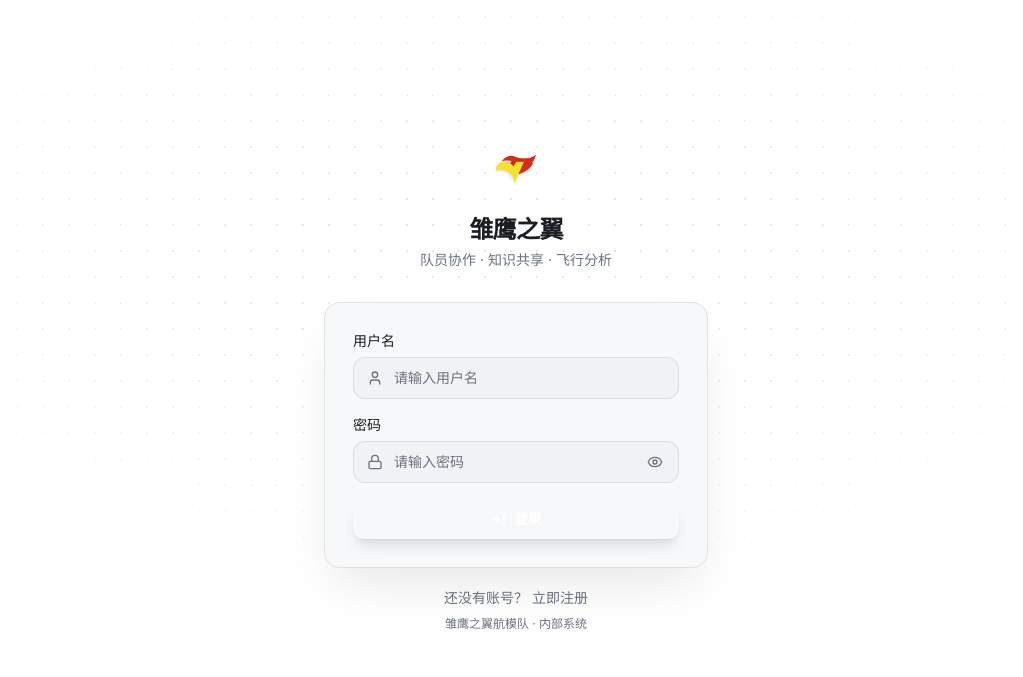
Test case: 登录页 › 登录失败展示后端错误信息
Type "admin" into the field with placeholder "请输入用户名" at (516, 378), box [353,357,679,399]
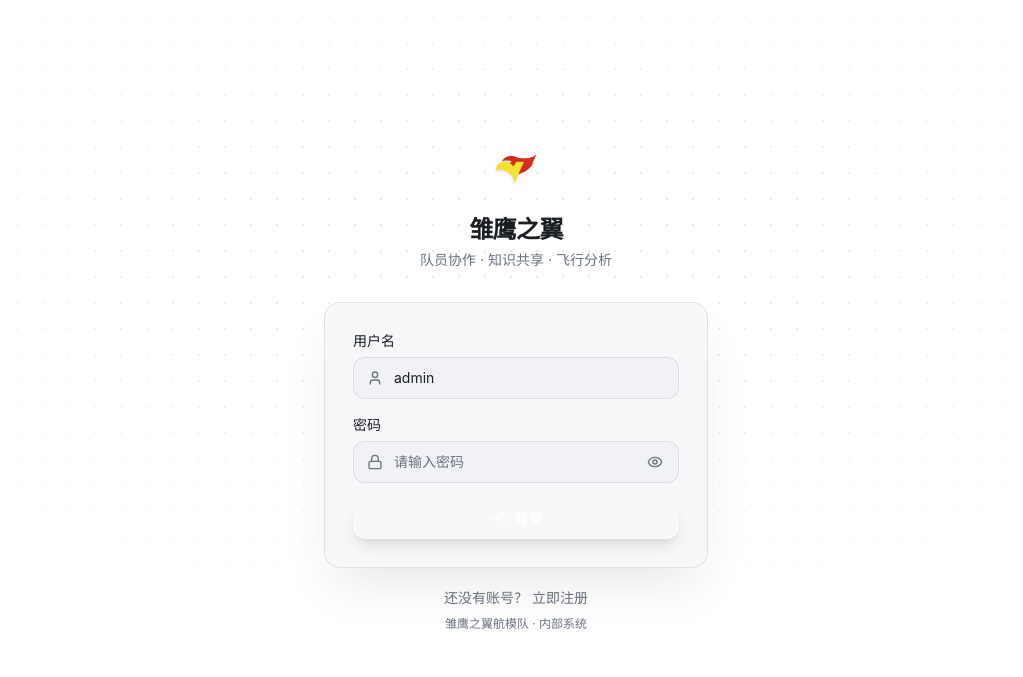
Type "bad" into the password field with placeholder "请输入密码" at (516, 462), box [353,441,679,483]
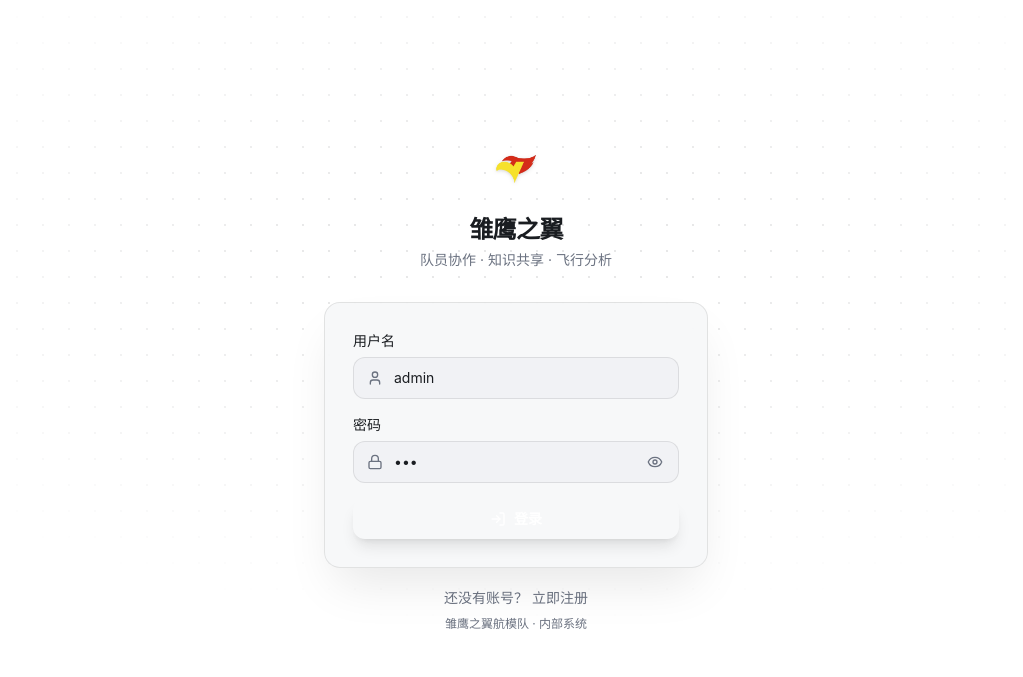
Click the button "登录" at (516, 519), box [353,499,679,539]
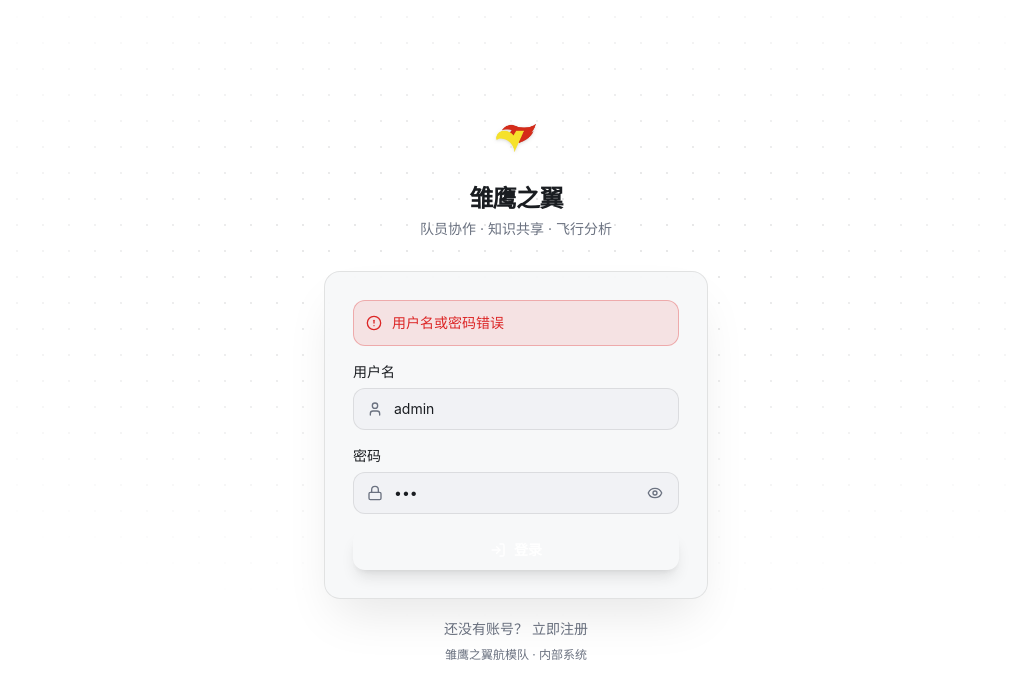
Expected: the text "用户名或密码错误" is shown, [392,313,504,333]
